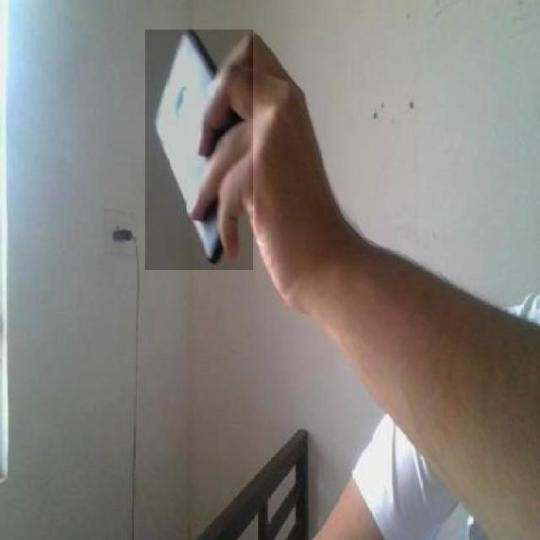phone: (148, 29, 262, 265)
